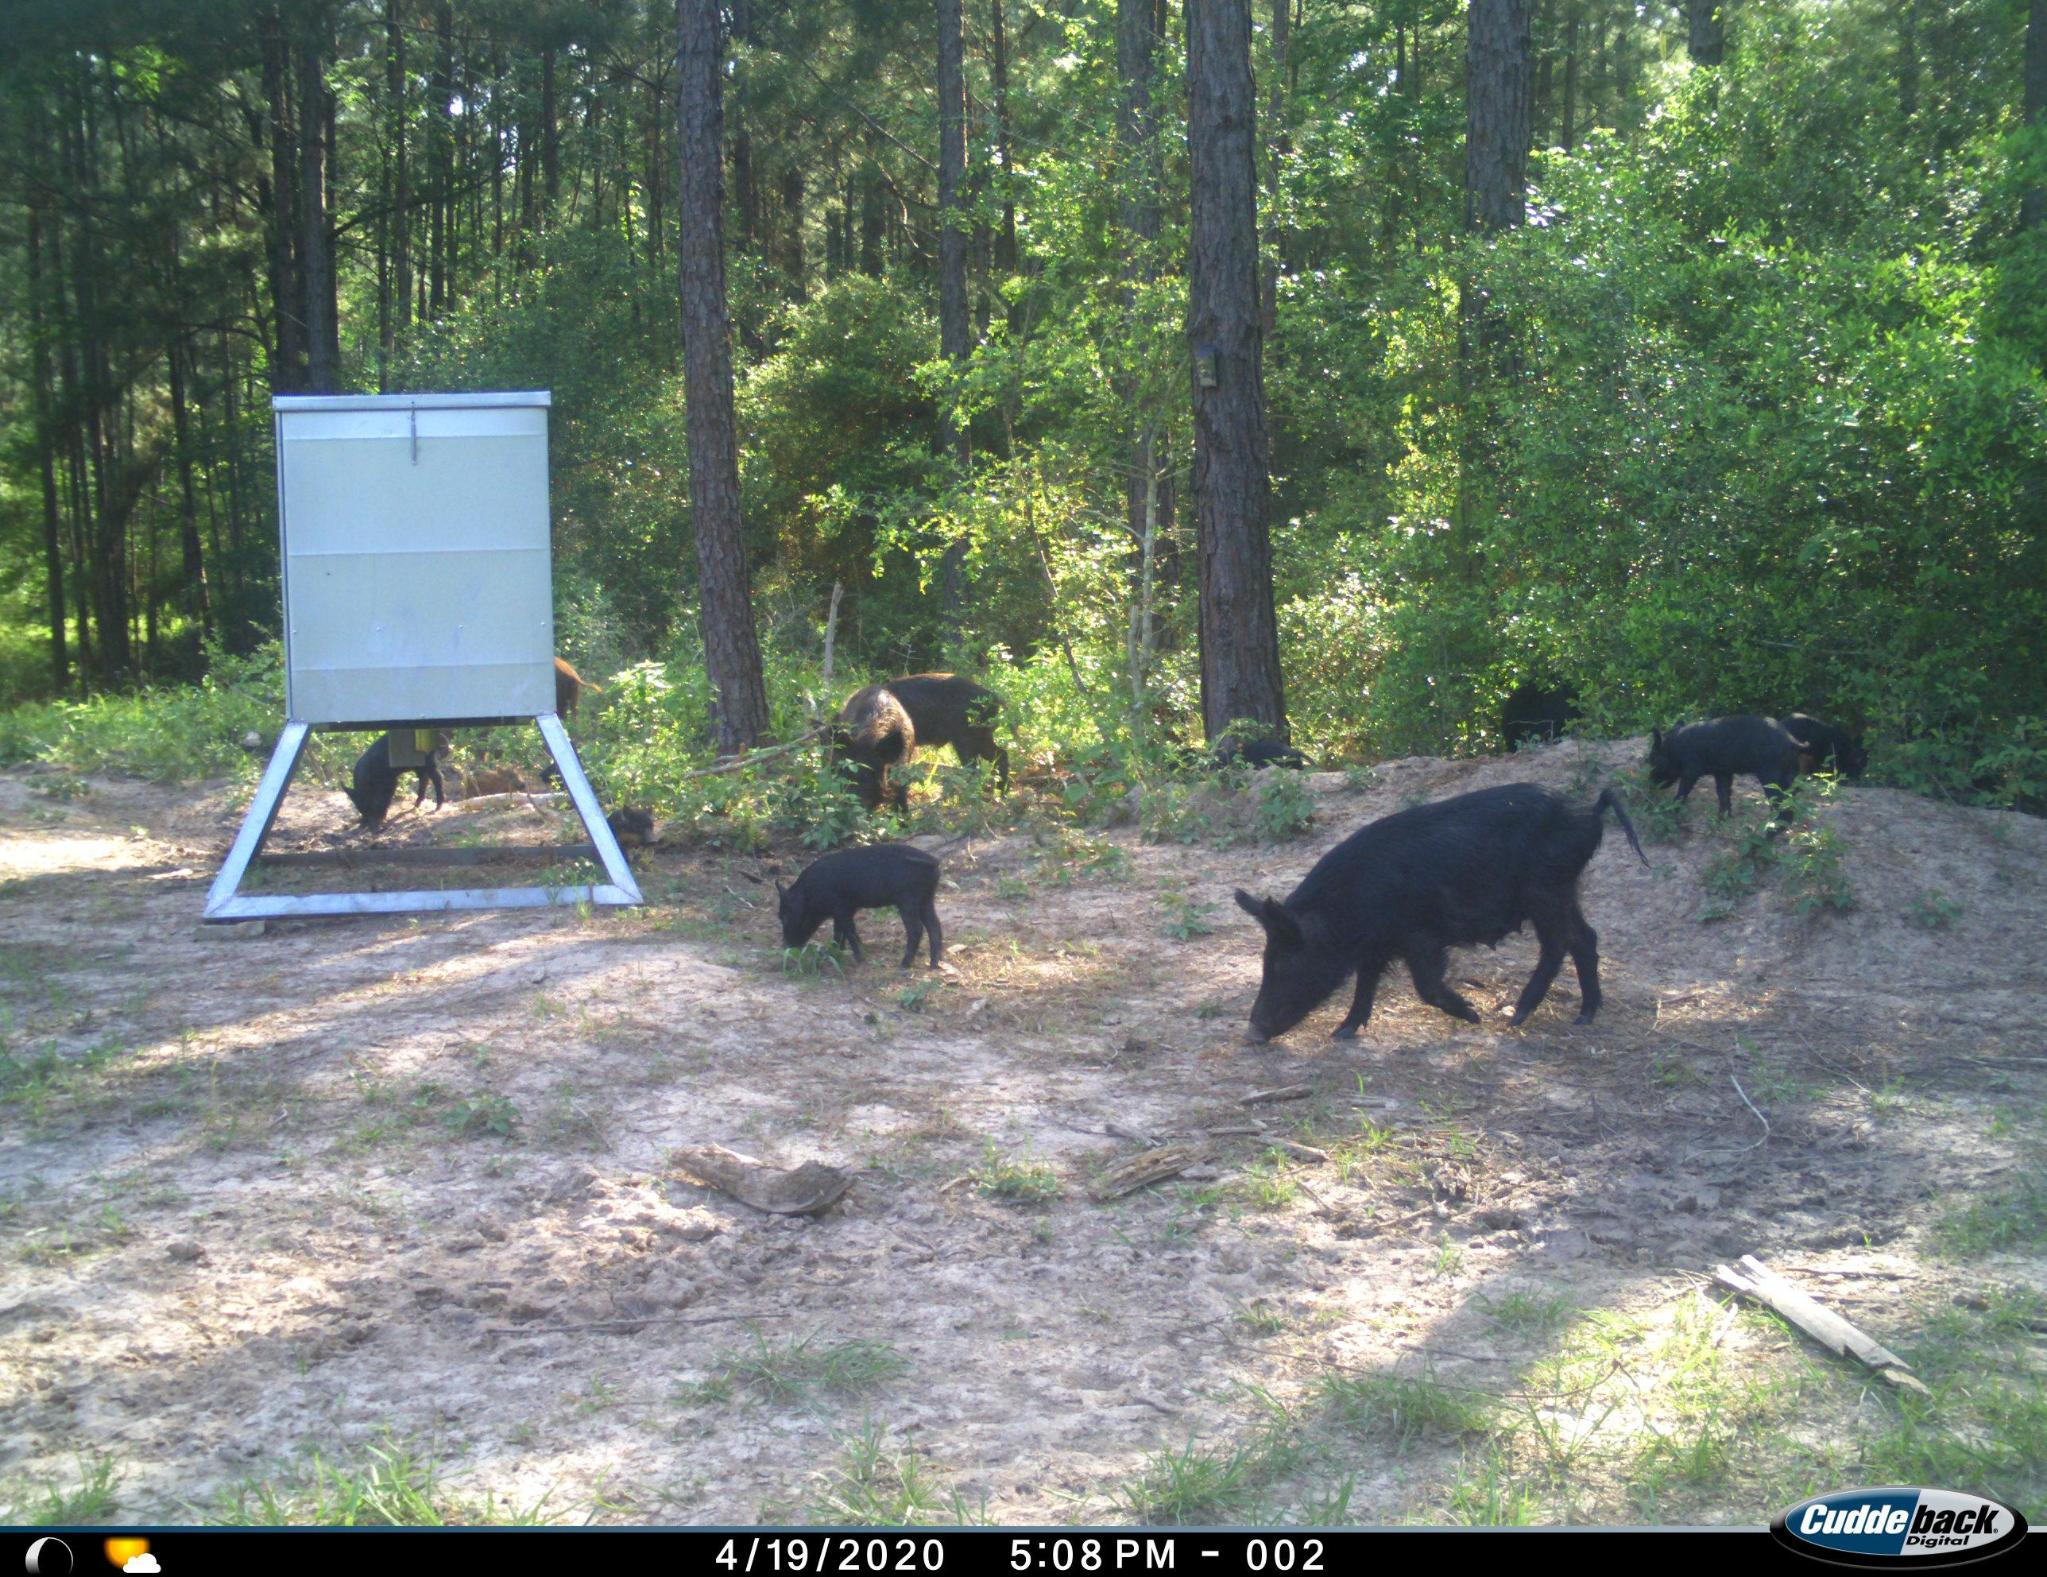Hog: (1217, 782, 1663, 1042), (763, 842, 957, 972), (1626, 711, 1823, 832), (808, 673, 924, 848), (341, 727, 469, 865)
